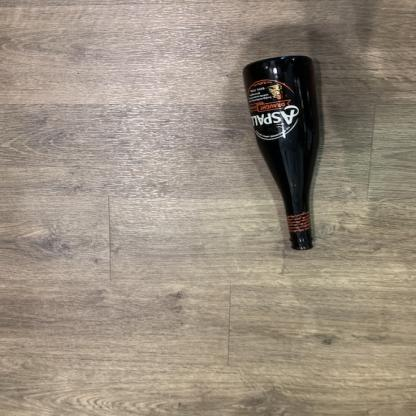trash: (236, 55, 324, 256)
